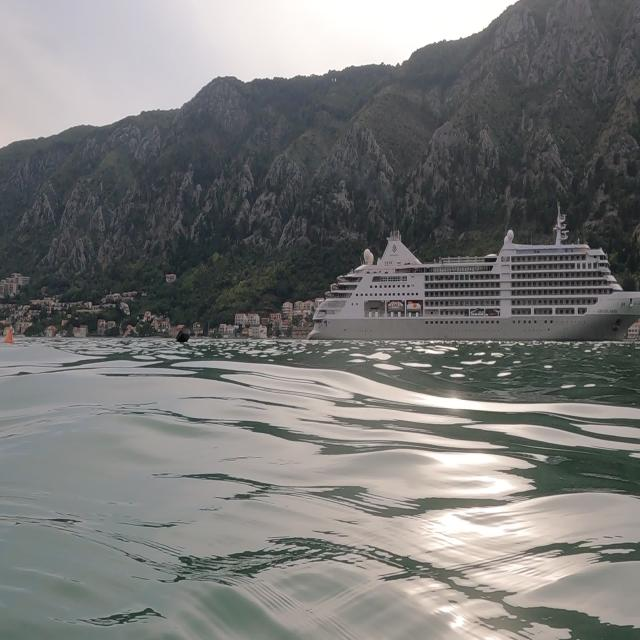boat: (305, 201, 638, 345)
buoy: (171, 314, 196, 350), (2, 321, 24, 357)
